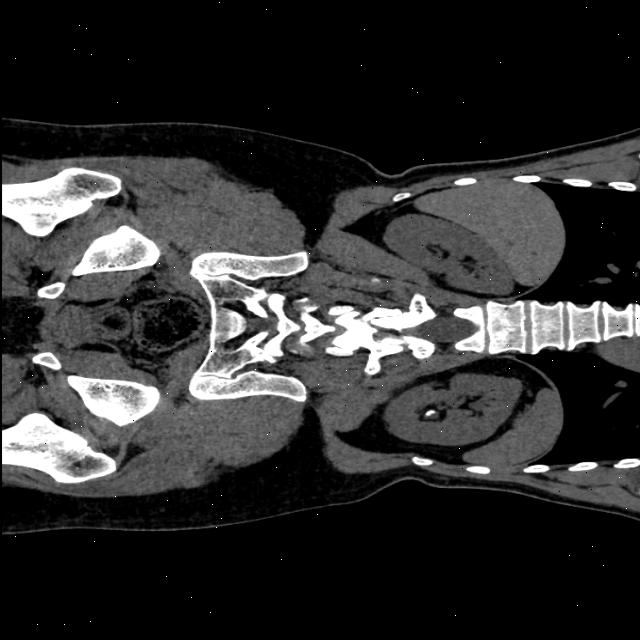kidneystone: (421, 405, 442, 420)
